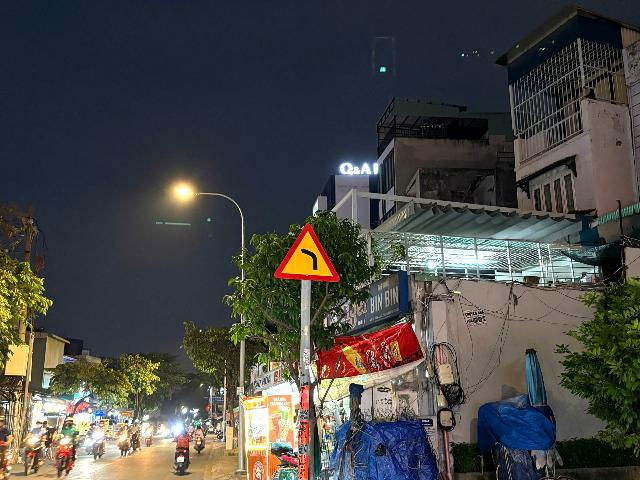cho-ngoat-nguy-hiem-ben-trai: (274, 222, 340, 282)
